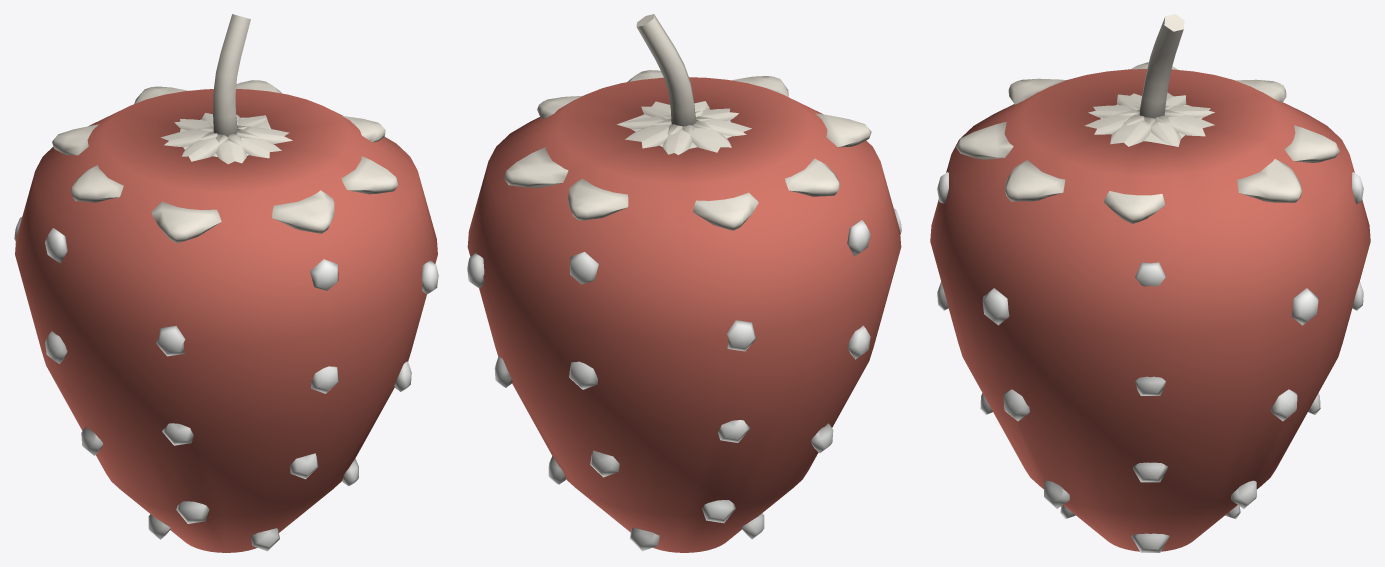
The model's file is food_strawberry.glb.
The picture shows the model from 3 angles, left to right: view 1: azimuth 30°, elevation 25°; view 2: azimuth 150°, elevation 25°; view 3: azimuth 270°, elevation 25°; orthographic projection. The views are drawn at different scales.
Visible parts, largest first — view 1: PART; view 2: PART; view 3: PART.
Boxes of the visible parts, left/top/right/bottom form: PART: left=14, top=14, right=438, bottom=552; PART: left=467, top=14, right=901, bottom=552; PART: left=930, top=14, right=1370, bottom=552.
Size of the model in its own units: 0.055 by 0.0746 by 0.055.
